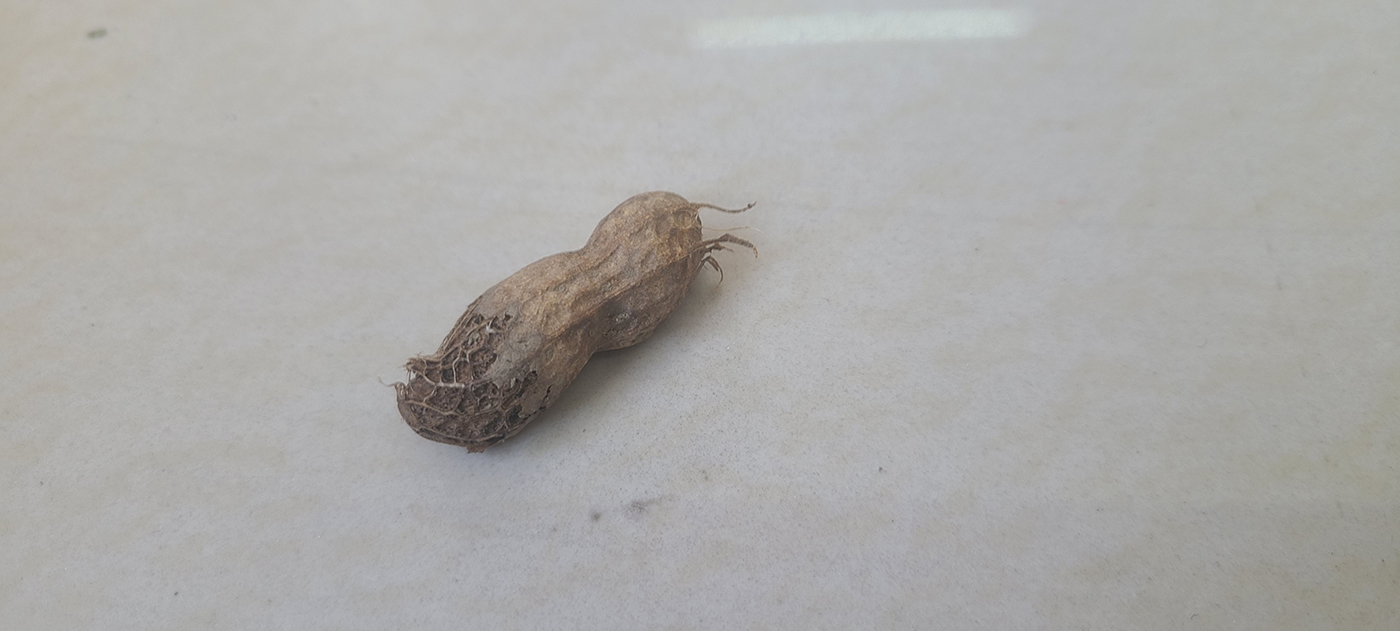l: (394, 187, 714, 454)
